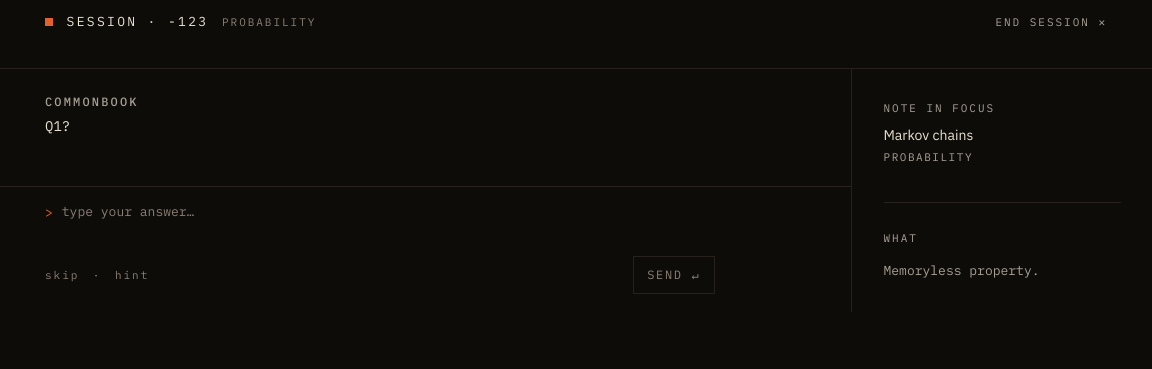
Test: Session — SESSION_COMPLETE detection › shows completion panel instead of navigating immediately on SESSION_COMPLETE
Step 1. Type "my answer" into the text box named "message input" → [433, 222], box x1=62 y1=201 x2=805 y2=243
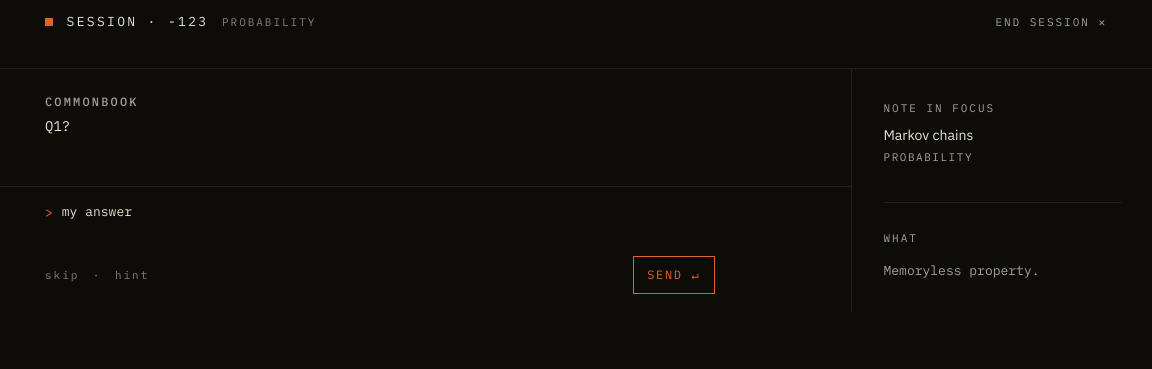
Step 2. Click the button "send ↵" → [674, 275], box x1=633 y1=256 x2=715 y2=294
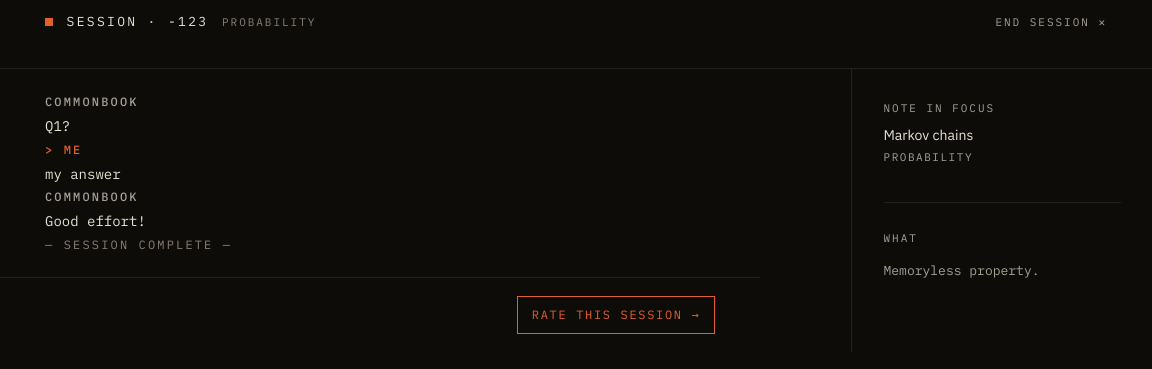
Result: the text "— session complete —" is shown at x1=45 y1=236 x2=232 y2=252
Result: the button with test id "rate-session-btn" is shown at x1=517 y1=296 x2=715 y2=334
